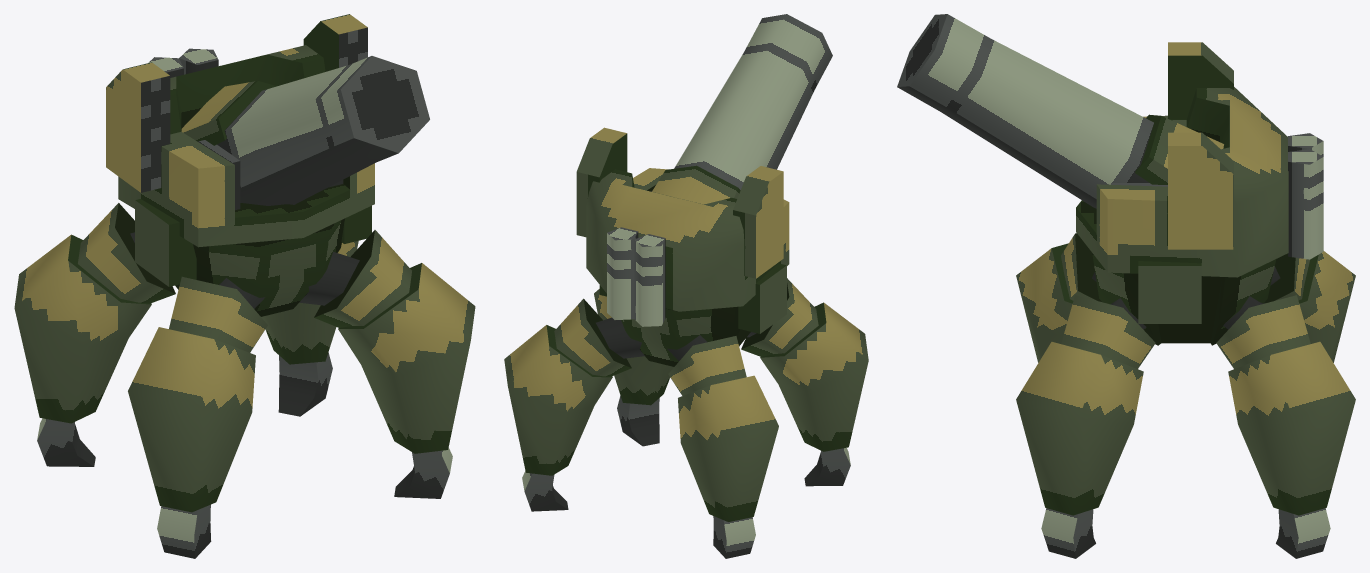
The picture shows the model from 3 angles, left to right: view 1: azimuth 30°, elevation 25°; view 2: azimuth 150°, elevation 25°; view 3: azimuth 270°, elevation 25°; orthographic projection. The views are drawn at different scales.
Visible parts, largest first — view 1: ArtilleryMech; view 2: ArtilleryMech; view 3: ArtilleryMech.
Part boxes in pixels (bbox=[...]): ArtilleryMech: bbox=[14, 14, 475, 558]; ArtilleryMech: bbox=[504, 14, 868, 558]; ArtilleryMech: bbox=[897, 14, 1355, 558].
Bounding box in the file's own units: 37.9 × 53.58 × 46.17.
1 material, 1 textured.
